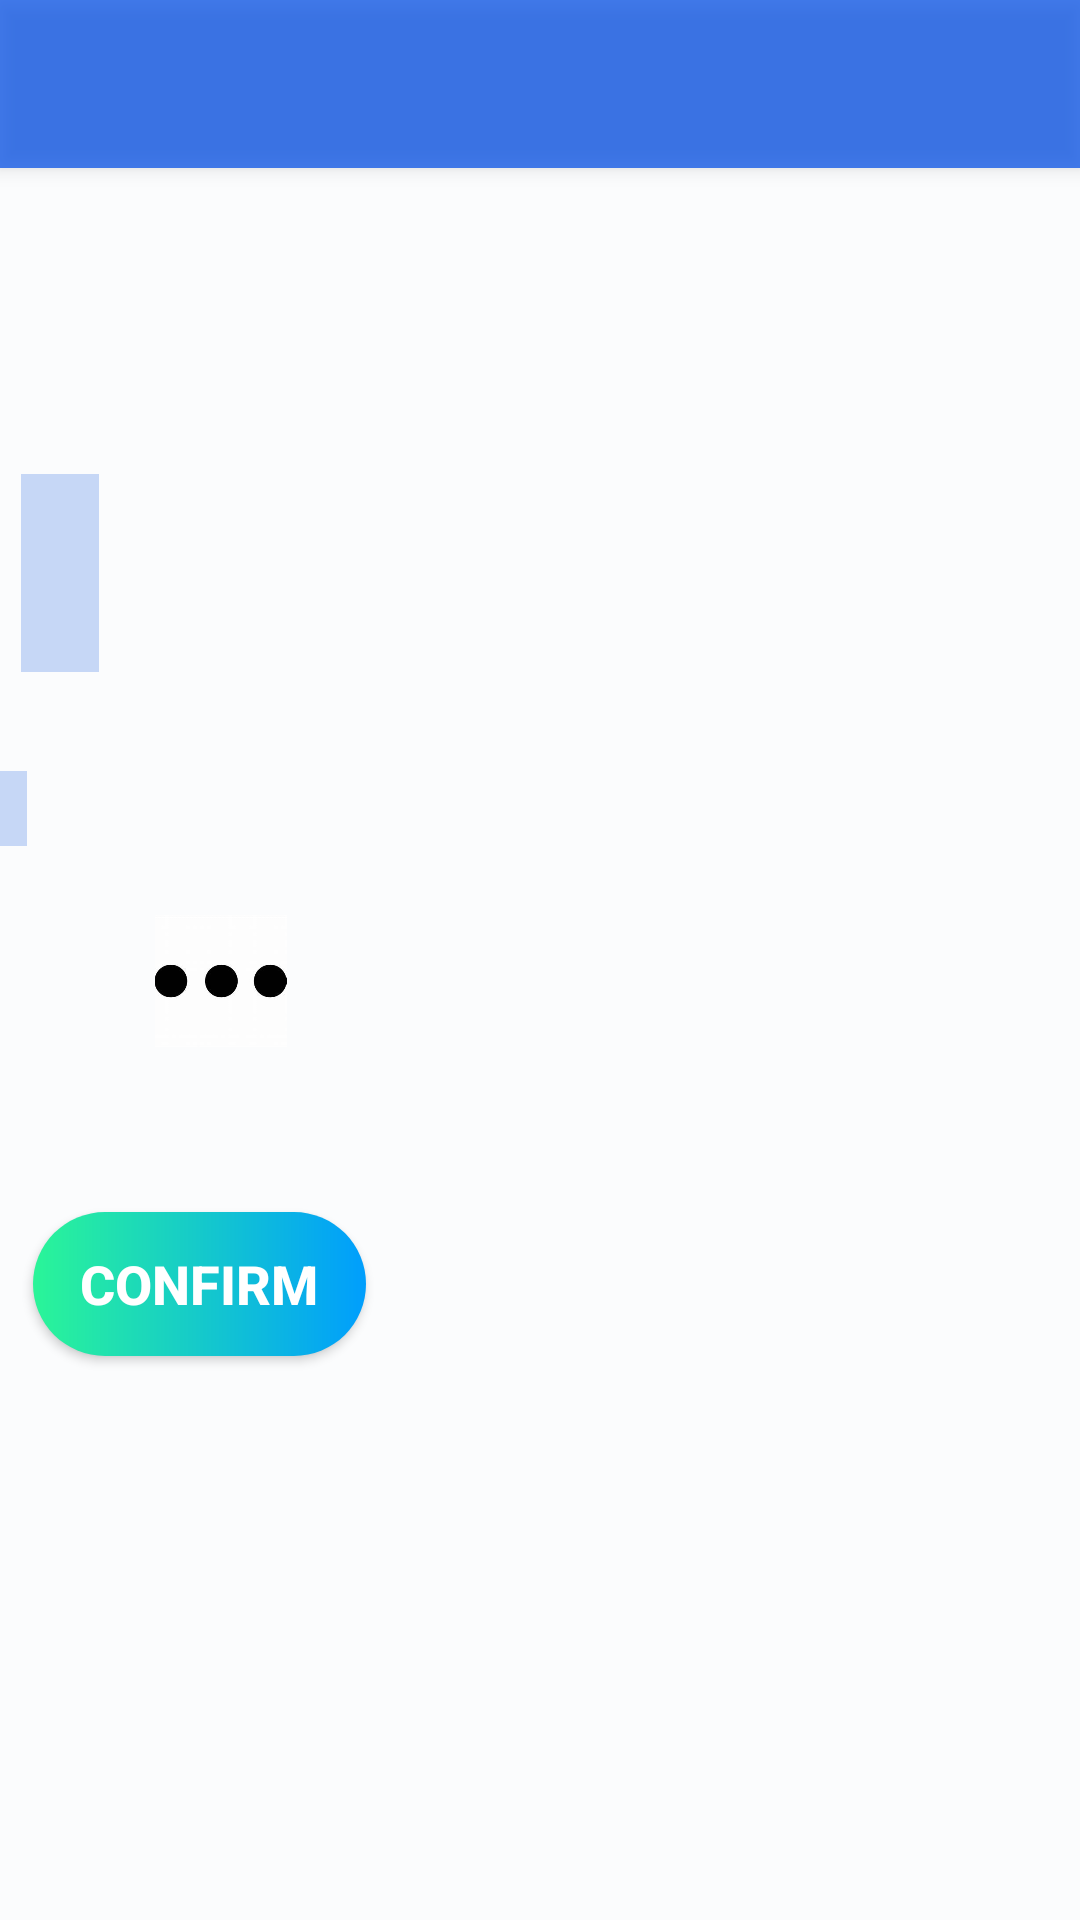

Screen size 1080x1920. Icon name, then its center in pixels as point (x, y):
otherpay: point (221, 981)
